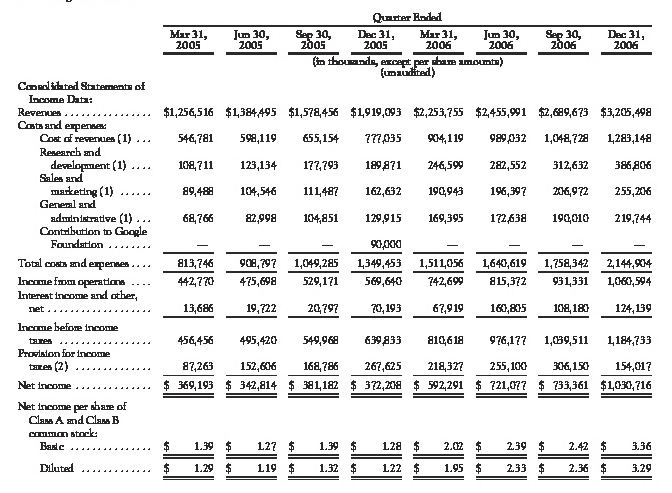table: (0, 0, 672, 493)
